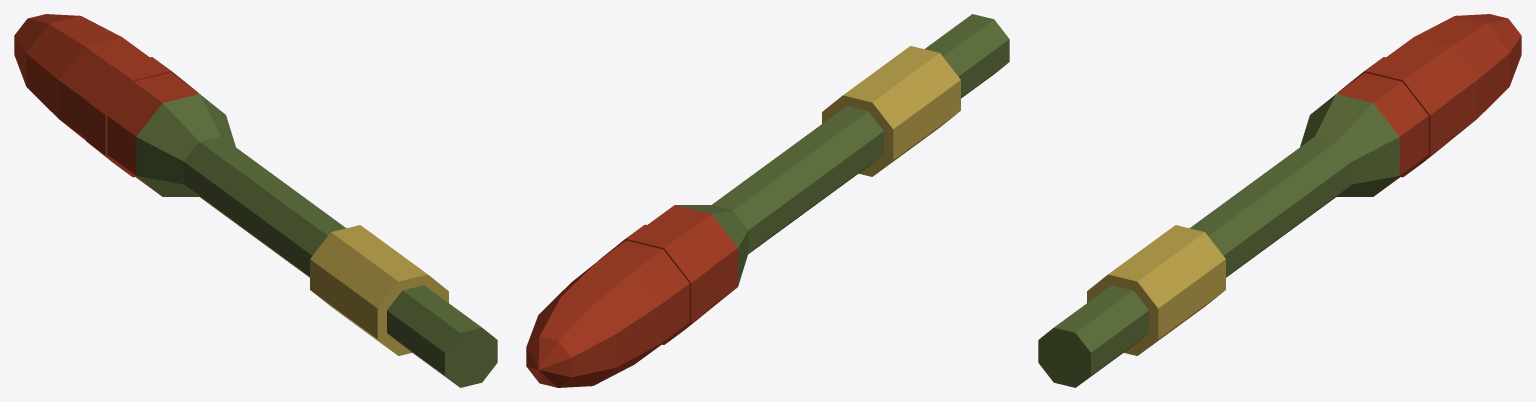
File: ce_ammo2_spg9_thermo_a.obj
The picture shows the model from 3 angles, left to right: view 1: azimuth 30°, elevation 25°; view 2: azimuth 150°, elevation 25°; view 3: azimuth 330°, elevation 25°; orthographic projection.
Parts seen in each view (by area): view 1: ce_ammo2_spg9_thermo_a_2, ce_ammo2_spg9_thermo_a_1, ce_ammo2_spg9_thermo_a_0, ce_ammo2_spg9_thermo_a_3, ce_ammo2_spg9_thermo_a_7, ce_ammo2_spg9_thermo_a_4, ce_ammo2_spg9_thermo_a_6, ce_ammo2_spg9_thermo_a_5, ce_ammo2_spg9_thermo_a_8; view 2: ce_ammo2_spg9_thermo_a_2, ce_ammo2_spg9_thermo_a_1, ce_ammo2_spg9_thermo_a_7, ce_ammo2_spg9_thermo_a_8, ce_ammo2_spg9_thermo_a_6, ce_ammo2_spg9_thermo_a_0, ce_ammo2_spg9_thermo_a_4, ce_ammo2_spg9_thermo_a_5, ce_ammo2_spg9_thermo_a_9, ce_ammo2_spg9_thermo_a_3; view 3: ce_ammo2_spg9_thermo_a_2, ce_ammo2_spg9_thermo_a_1, ce_ammo2_spg9_thermo_a_0, ce_ammo2_spg9_thermo_a_3, ce_ammo2_spg9_thermo_a_7, ce_ammo2_spg9_thermo_a_4, ce_ammo2_spg9_thermo_a_6, ce_ammo2_spg9_thermo_a_5, ce_ammo2_spg9_thermo_a_8.
Part boxes in pixels (x1=…): ce_ammo2_spg9_thermo_a_2: x1=184, y1=136, x2=345, y2=277; ce_ammo2_spg9_thermo_a_1: x1=310, y1=225, x2=448, y2=355; ce_ammo2_spg9_thermo_a_0: x1=387, y1=285, x2=497, y2=387; ce_ammo2_spg9_thermo_a_3: x1=136, y1=94, x2=235, y2=196; ce_ammo2_spg9_thermo_a_7: x1=26, y1=16, x2=121, y2=118; ce_ammo2_spg9_thermo_a_4: x1=107, y1=72, x2=199, y2=194; ce_ammo2_spg9_thermo_a_6: x1=59, y1=37, x2=149, y2=140; ce_ammo2_spg9_thermo_a_5: x1=86, y1=57, x2=198, y2=177; ce_ammo2_spg9_thermo_a_8: x1=14, y1=14, x2=79, y2=85; ce_ammo2_spg9_thermo_a_2: x1=711, y1=106, x2=883, y2=253; ce_ammo2_spg9_thermo_a_1: x1=822, y1=46, x2=960, y2=176; ce_ammo2_spg9_thermo_a_7: x1=540, y1=261, x2=660, y2=385; ce_ammo2_spg9_thermo_a_8: x1=526, y1=297, x2=615, y2=387; ce_ammo2_spg9_thermo_a_6: x1=597, y1=240, x2=689, y2=361; ce_ammo2_spg9_thermo_a_0: x1=924, y1=14, x2=1009, y2=98; ce_ammo2_spg9_thermo_a_4: x1=648, y1=205, x2=737, y2=308; ce_ammo2_spg9_thermo_a_5: x1=598, y1=224, x2=710, y2=344; ce_ammo2_spg9_thermo_a_9: x1=526, y1=336, x2=571, y2=387; ce_ammo2_spg9_thermo_a_3: x1=675, y1=205, x2=748, y2=286; ce_ammo2_spg9_thermo_a_2: x1=1190, y1=136, x2=1351, y2=277; ce_ammo2_spg9_thermo_a_1: x1=1087, y1=225, x2=1225, y2=355; ce_ammo2_spg9_thermo_a_0: x1=1038, y1=285, x2=1148, y2=387; ce_ammo2_spg9_thermo_a_3: x1=1300, y1=94, x2=1399, y2=196; ce_ammo2_spg9_thermo_a_7: x1=1414, y1=16, x2=1509, y2=118; ce_ammo2_spg9_thermo_a_4: x1=1336, y1=72, x2=1428, y2=194; ce_ammo2_spg9_thermo_a_6: x1=1386, y1=37, x2=1476, y2=140; ce_ammo2_spg9_thermo_a_5: x1=1337, y1=57, x2=1449, y2=177; ce_ammo2_spg9_thermo_a_8: x1=1456, y1=14, x2=1521, y2=85.
Bounding box in the file's own units: 0.1108 × 0.1108 × 0.92.
